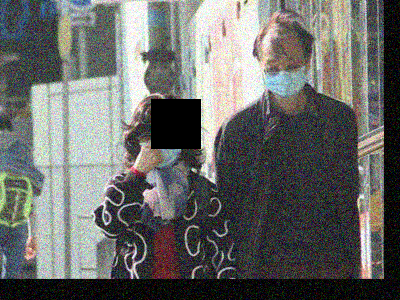with_mask: (137, 125, 182, 172), (259, 54, 307, 96)
